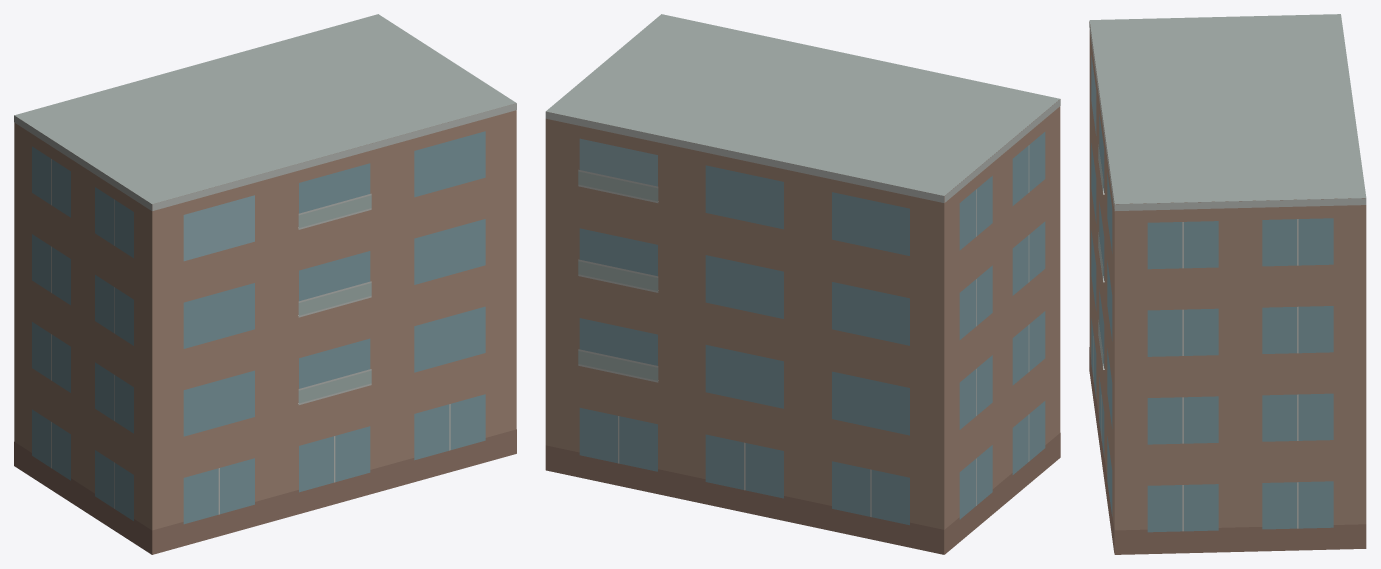
Rendered from residential-1d4fa1d4-683b-4ee7-8fb4-cfdadc22b1c5.glb.
3 views of the same model, side by side, from view 1: azimuth 30°, elevation 25°; view 2: azimuth 150°, elevation 25°; view 3: azimuth 270°, elevation 25° (orthographic). The views are drawn at different scales.
Parts seen in each view (by area): view 1: residential-1d4fa1d4-683b-4ee7-8fb4-cfdadc22b1c5.tmp; view 2: residential-1d4fa1d4-683b-4ee7-8fb4-cfdadc22b1c5.tmp; view 3: residential-1d4fa1d4-683b-4ee7-8fb4-cfdadc22b1c5.tmp.
Part boxes in pixels (left/top/right/bottom): residential-1d4fa1d4-683b-4ee7-8fb4-cfdadc22b1c5.tmp: left=14, top=14, right=516, bottom=554; residential-1d4fa1d4-683b-4ee7-8fb4-cfdadc22b1c5.tmp: left=545, top=14, right=1060, bottom=554; residential-1d4fa1d4-683b-4ee7-8fb4-cfdadc22b1c5.tmp: left=1089, top=14, right=1366, bottom=554.
Size of the model in its own units: 14.19 by 12.2 by 8.74.
